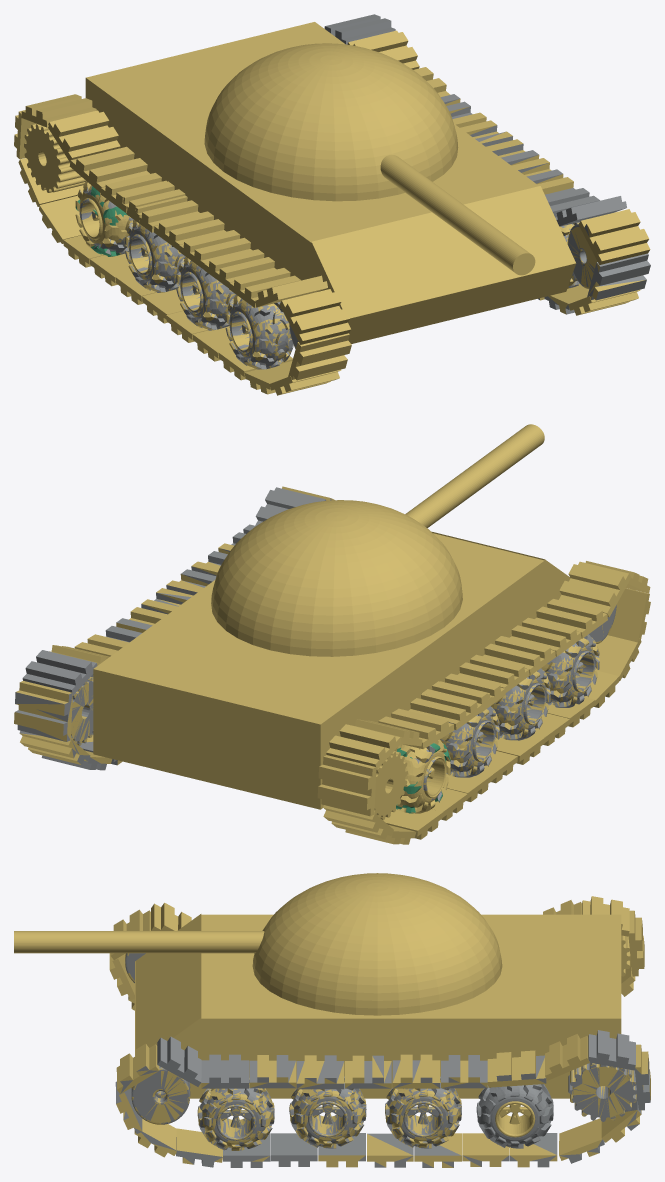
The model's file is Tonk (1).glb.
3 renders of one model, top to bottom at view 1: azimuth 30°, elevation 25°; view 2: azimuth 150°, elevation 25°; view 3: azimuth 270°, elevation 25°, orthographic. The views are drawn at different scales.
Visible parts, largest first — view 1: Mesh_Mesh_head_geo.001_lambert2SG.001; view 2: Mesh_Mesh_head_geo.001_lambert2SG.001; view 3: Mesh_Mesh_head_geo.001_lambert2SG.001.
Part boxes in pixels (bbox=[...]): Mesh_Mesh_head_geo.001_lambert2SG.001: bbox=[14, 14, 650, 395]; Mesh_Mesh_head_geo.001_lambert2SG.001: bbox=[14, 424, 650, 844]; Mesh_Mesh_head_geo.001_lambert2SG.001: bbox=[14, 873, 650, 1167].
Bounding box in the file's own units: 104 × 61 × 173.
